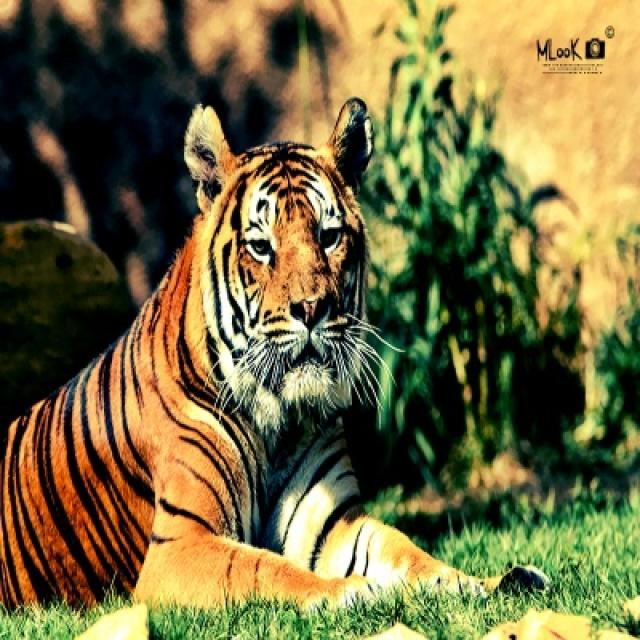Tiger: (10, 96, 474, 605)
